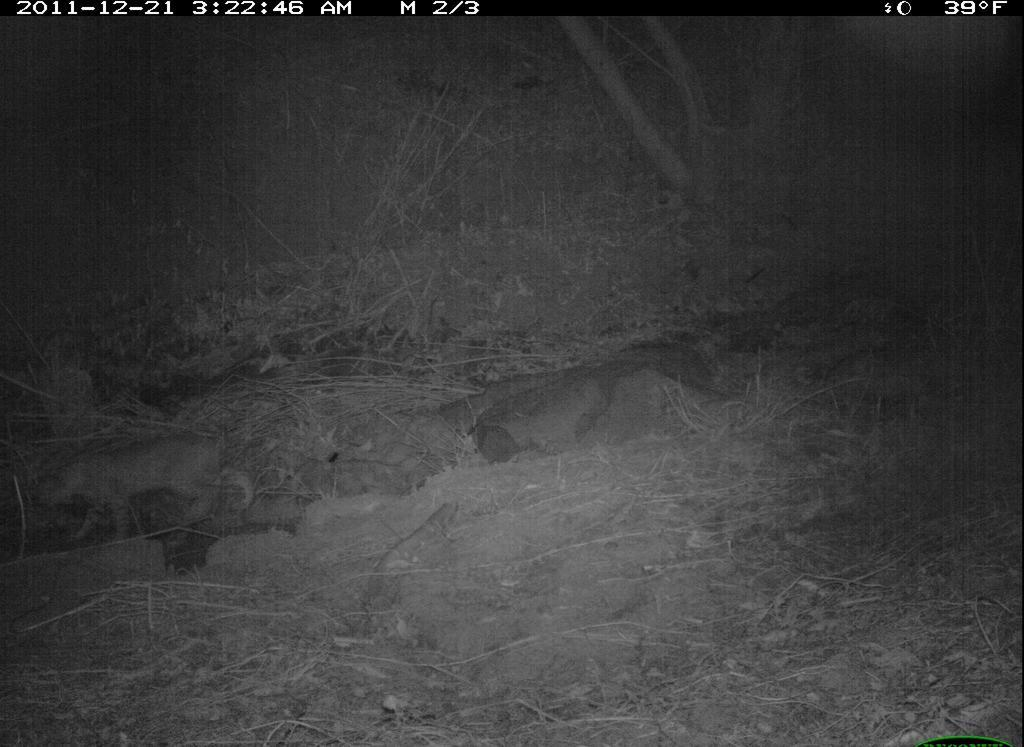bobcat: (27, 409, 277, 557)
